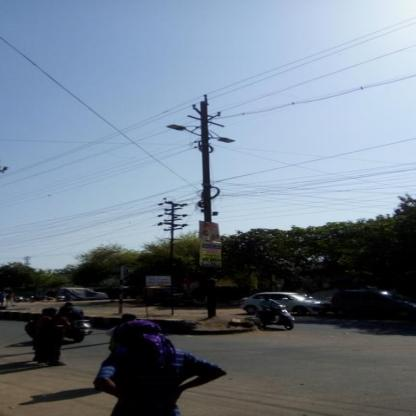Electrical Pole: (177, 92, 251, 316)
